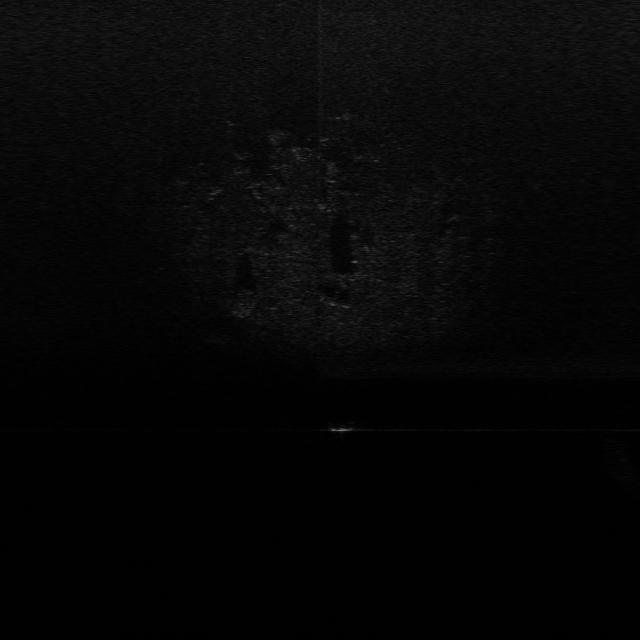square cage: (326, 418, 360, 437)
